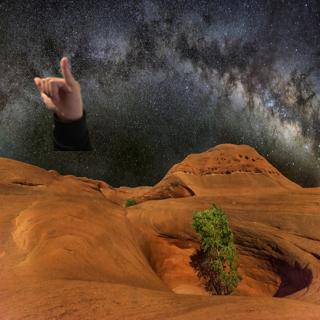HAVE: (31, 52, 88, 120)
